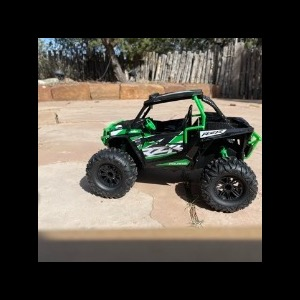polaris: (85, 89, 261, 214)
